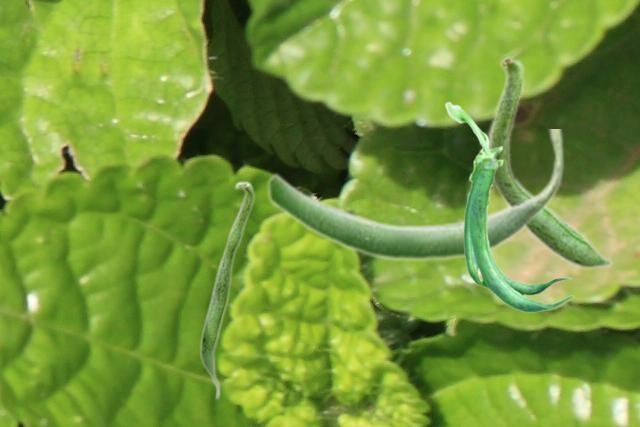french_bean: (266, 129, 564, 262), (444, 101, 573, 312), (487, 54, 612, 269), (199, 180, 254, 400)
